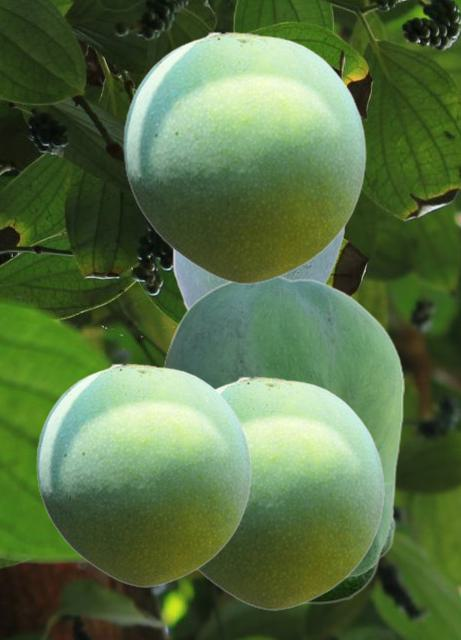green_mango: (161, 275, 403, 577), (123, 30, 365, 283), (36, 362, 250, 586), (196, 375, 383, 609), (172, 227, 345, 309), (304, 513, 395, 604)
